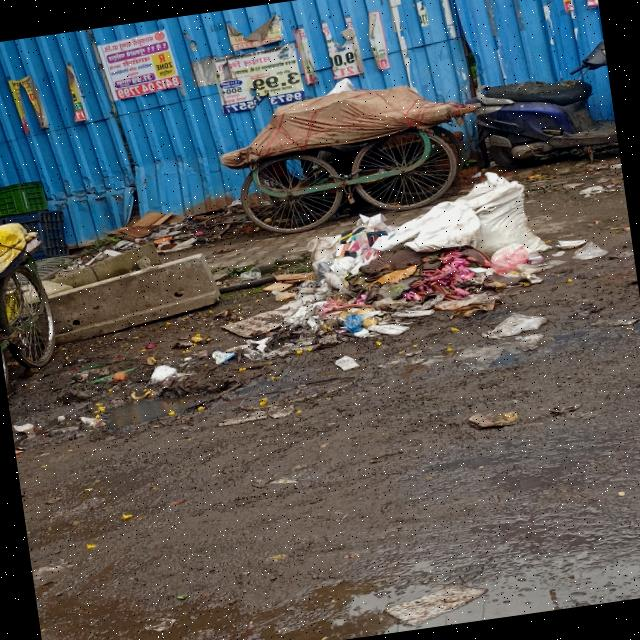garbage: (202, 180, 543, 375), (58, 202, 213, 278)
